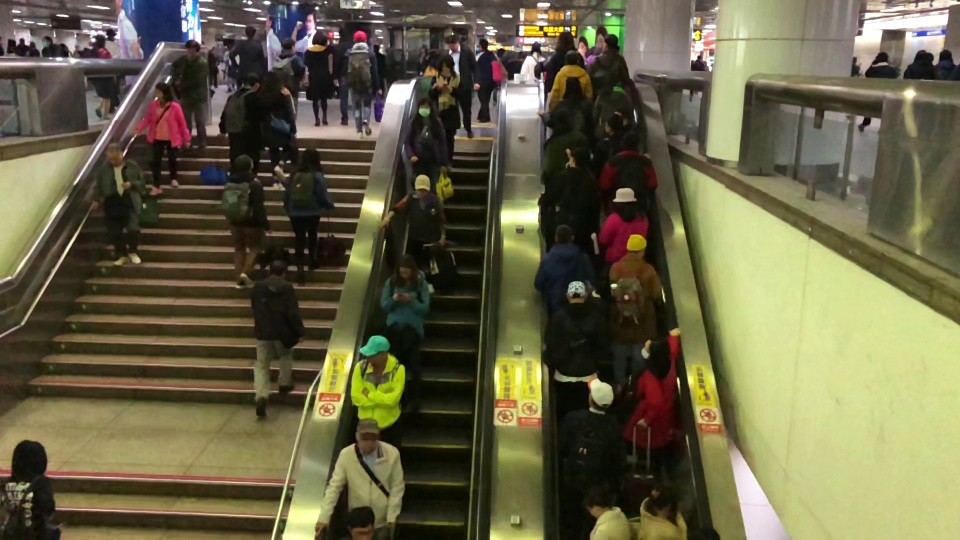person_head: (12, 439, 47, 474), (648, 484, 679, 517), (360, 334, 390, 367), (354, 417, 381, 452), (640, 334, 670, 364), (586, 376, 613, 409), (348, 506, 374, 540), (582, 484, 610, 514), (104, 139, 133, 166), (392, 254, 417, 284), (566, 145, 591, 171), (613, 186, 637, 212), (564, 280, 588, 304), (625, 233, 647, 255), (554, 109, 575, 132), (263, 69, 283, 92), (301, 147, 321, 170), (604, 113, 624, 136), (153, 82, 173, 105), (412, 173, 431, 197), (554, 224, 575, 245), (554, 30, 574, 52), (619, 130, 640, 150), (417, 95, 434, 118), (564, 76, 581, 99), (233, 154, 254, 172), (242, 71, 260, 91), (601, 70, 622, 87), (182, 39, 200, 58), (268, 259, 287, 277), (311, 29, 328, 47), (280, 36, 297, 53), (602, 34, 619, 51), (937, 48, 955, 63), (439, 54, 453, 73), (445, 35, 461, 51), (563, 49, 578, 65), (913, 49, 928, 64), (352, 29, 367, 43), (243, 25, 256, 39), (94, 36, 105, 49), (478, 38, 489, 51), (876, 51, 889, 62), (41, 35, 52, 47), (531, 43, 541, 54), (106, 28, 115, 39), (373, 44, 379, 54), (30, 42, 37, 50), (419, 46, 426, 53), (695, 54, 702, 60), (19, 38, 24, 45), (852, 56, 856, 63)
person_vbox: (314, 417, 406, 540), (249, 258, 306, 418), (378, 253, 430, 420), (378, 173, 449, 295), (608, 232, 662, 391), (622, 327, 685, 463), (541, 280, 604, 412), (560, 377, 627, 491), (125, 82, 190, 197), (220, 154, 274, 291), (91, 139, 145, 269), (287, 148, 335, 287), (350, 334, 406, 445), (0, 440, 61, 540), (532, 223, 594, 313), (535, 145, 598, 229), (256, 69, 298, 192), (598, 130, 658, 214), (170, 39, 211, 150), (343, 29, 383, 141), (217, 71, 261, 167), (597, 186, 649, 267), (403, 96, 449, 186), (589, 113, 652, 171), (445, 35, 480, 139), (427, 55, 461, 160), (856, 51, 898, 136), (539, 108, 589, 179), (304, 29, 337, 127), (537, 76, 593, 132), (591, 69, 635, 138), (581, 484, 631, 540), (548, 50, 593, 112), (271, 36, 306, 113), (640, 483, 687, 540), (81, 36, 112, 117), (543, 30, 583, 91), (589, 33, 629, 88), (474, 37, 499, 123), (228, 25, 265, 82), (519, 43, 548, 78), (902, 49, 933, 80), (934, 49, 957, 81), (105, 28, 120, 59), (41, 35, 59, 56), (416, 45, 428, 74), (26, 41, 40, 56), (16, 37, 28, 54), (693, 55, 706, 70), (851, 55, 859, 76)
